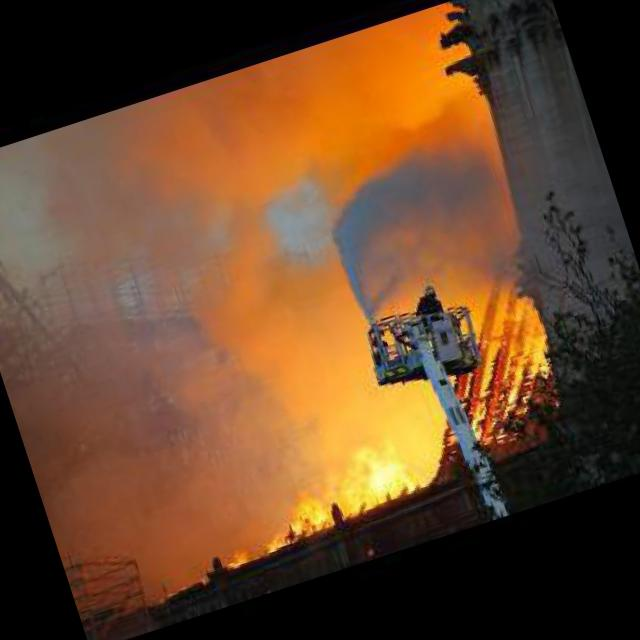fire: (202, 422, 442, 572)
